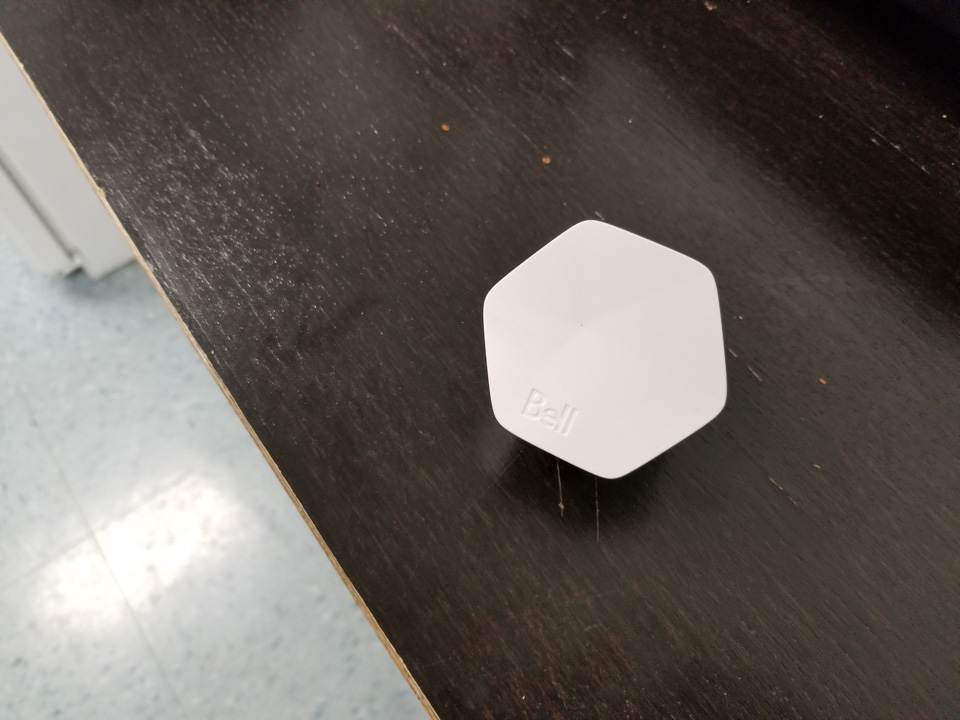pod: (473, 214, 735, 486)
